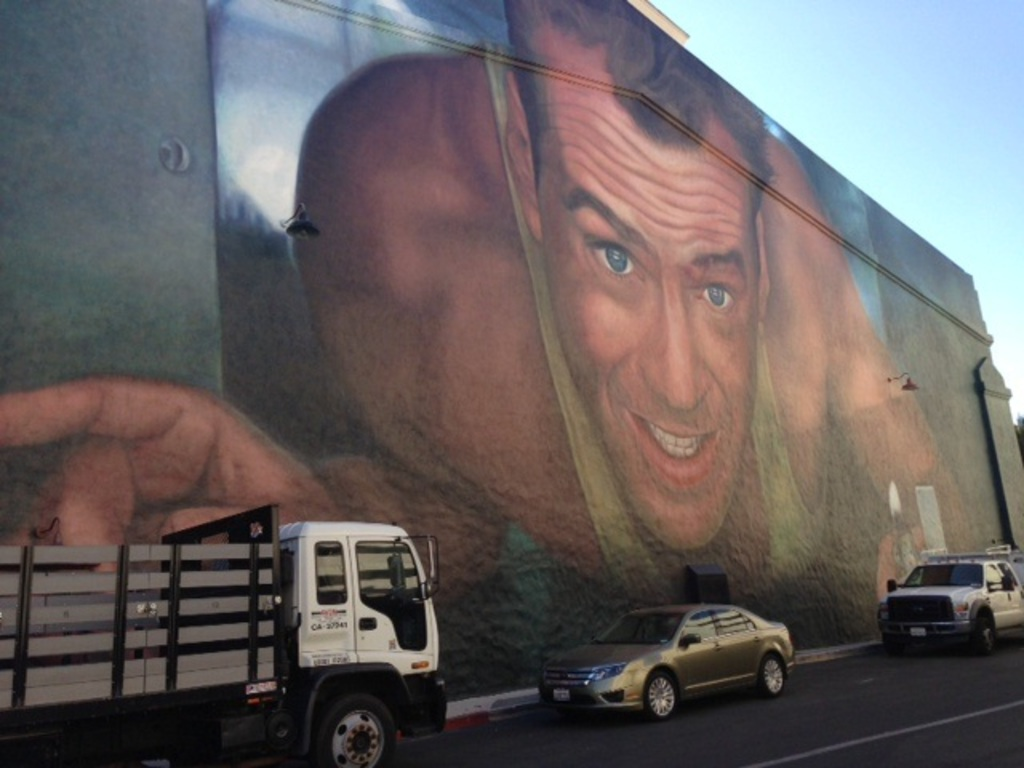car: (514, 576, 820, 742), (860, 530, 1024, 661)
truck: (1, 473, 488, 768)
